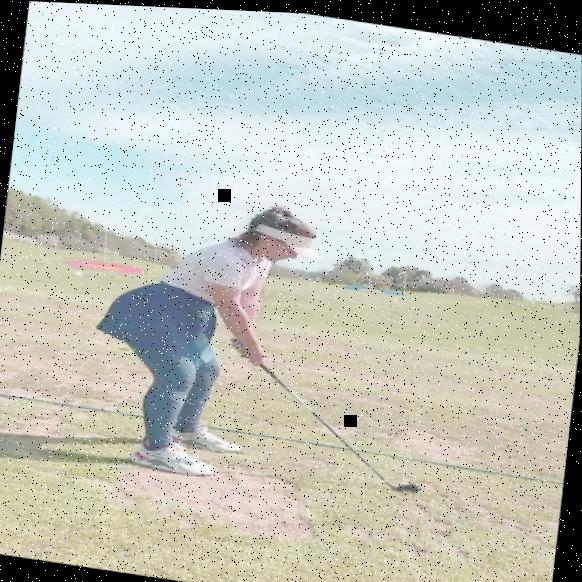ClubHead: (394, 476, 422, 490)
GolfBall: (401, 477, 410, 482)
